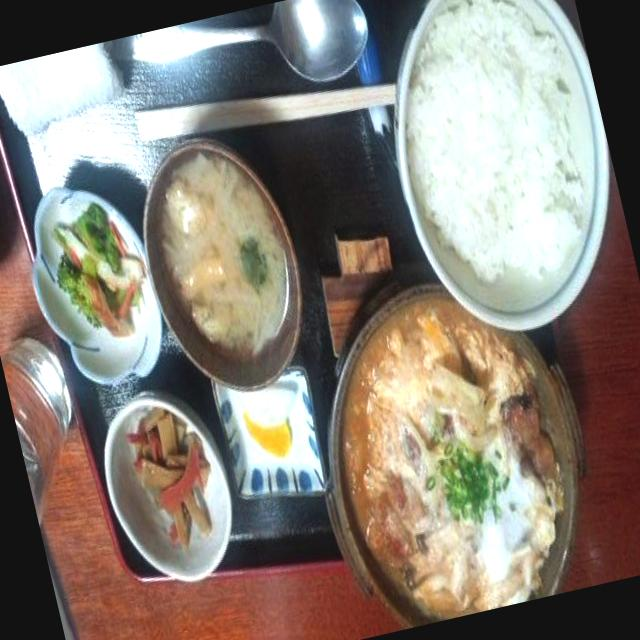Rice: (373, 0, 620, 316)
